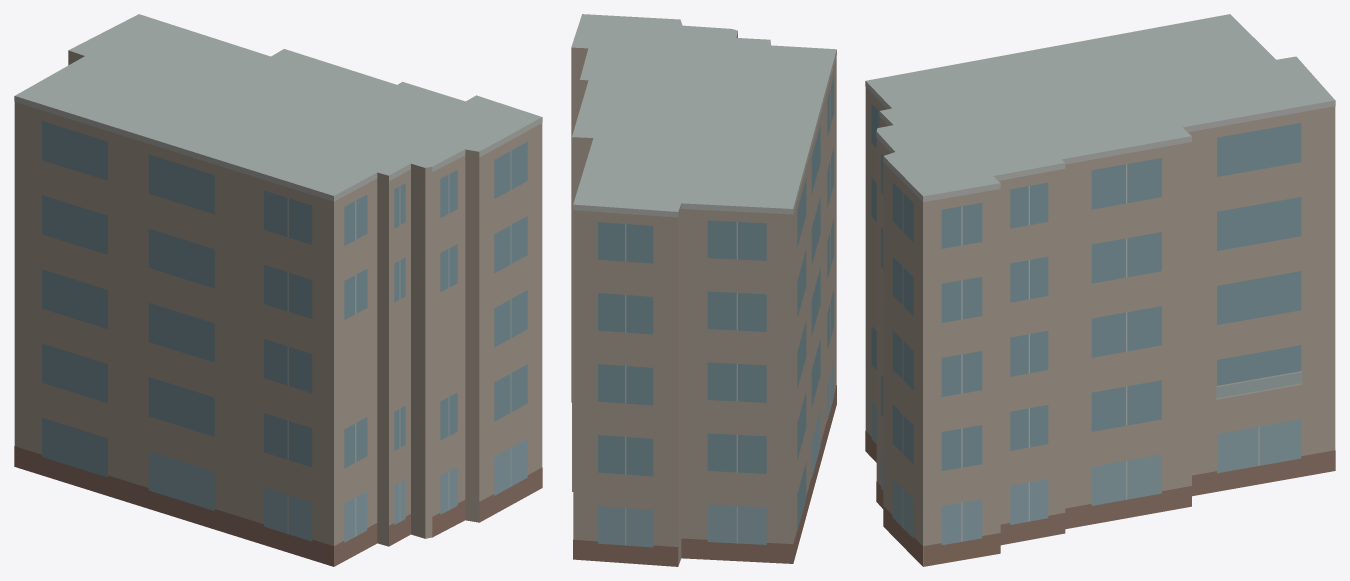
Rendered from survey-upis-33021311.glb.
3 renders of one model, left to right at view 1: azimuth 30°, elevation 25°; view 2: azimuth 150°, elevation 25°; view 3: azimuth 270°, elevation 25°, orthographic. The views are drawn at different scales.
Parts seen in each view (by area): view 1: survey-upis-33021311.tmp; view 2: survey-upis-33021311.tmp; view 3: survey-upis-33021311.tmp.
Boxes of the visible parts, <box> form: survey-upis-33021311.tmp: <box>14,14,542,566</box>; survey-upis-33021311.tmp: <box>571,14,836,566</box>; survey-upis-33021311.tmp: <box>865,14,1335,566</box>.
Bounding box in the file's own units: 16.48 × 15.6 × 17.94.
